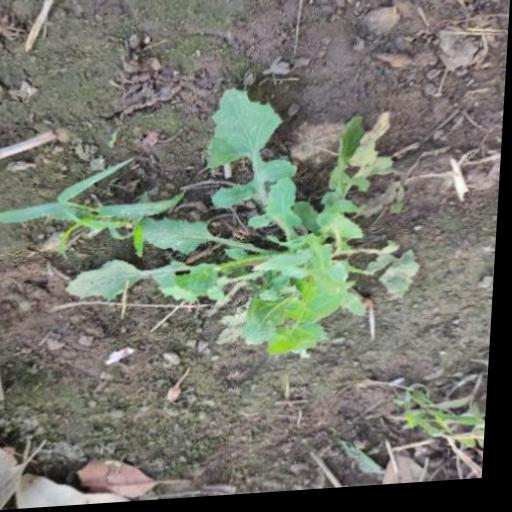weed: (0, 80, 419, 389)
